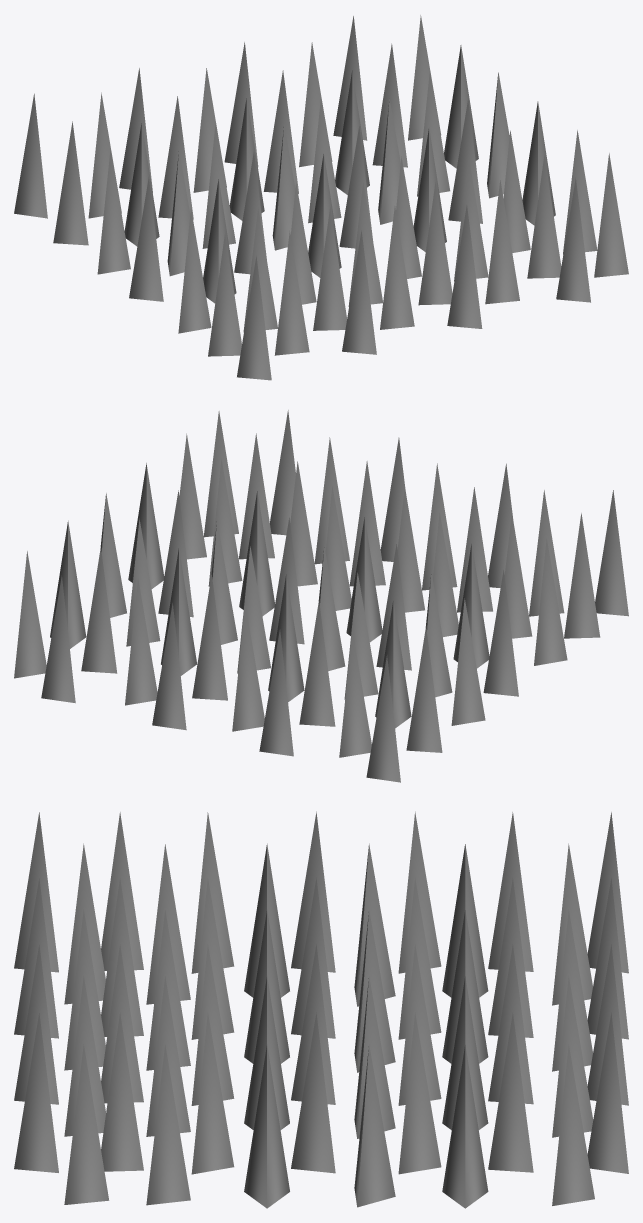
The model's file is trap.obj.
3 views of the same model, one above another, from view 1: azimuth 30°, elevation 25°; view 2: azimuth 150°, elevation 25°; view 3: azimuth 270°, elevation 25° (orthographic). The views are drawn at different scales.
Parts seen in each view (by area): view 1: Cone001; view 2: Cone001; view 3: Cone001.
Boxes of the visible parts, box(x1,y1,x2,y2) form: Cone001: box(14, 15, 628, 380); Cone001: box(14, 410, 628, 782); Cone001: box(14, 811, 628, 1208).
Bounding box in the file's own units: 55.53 × 15.61 × 56.6.
